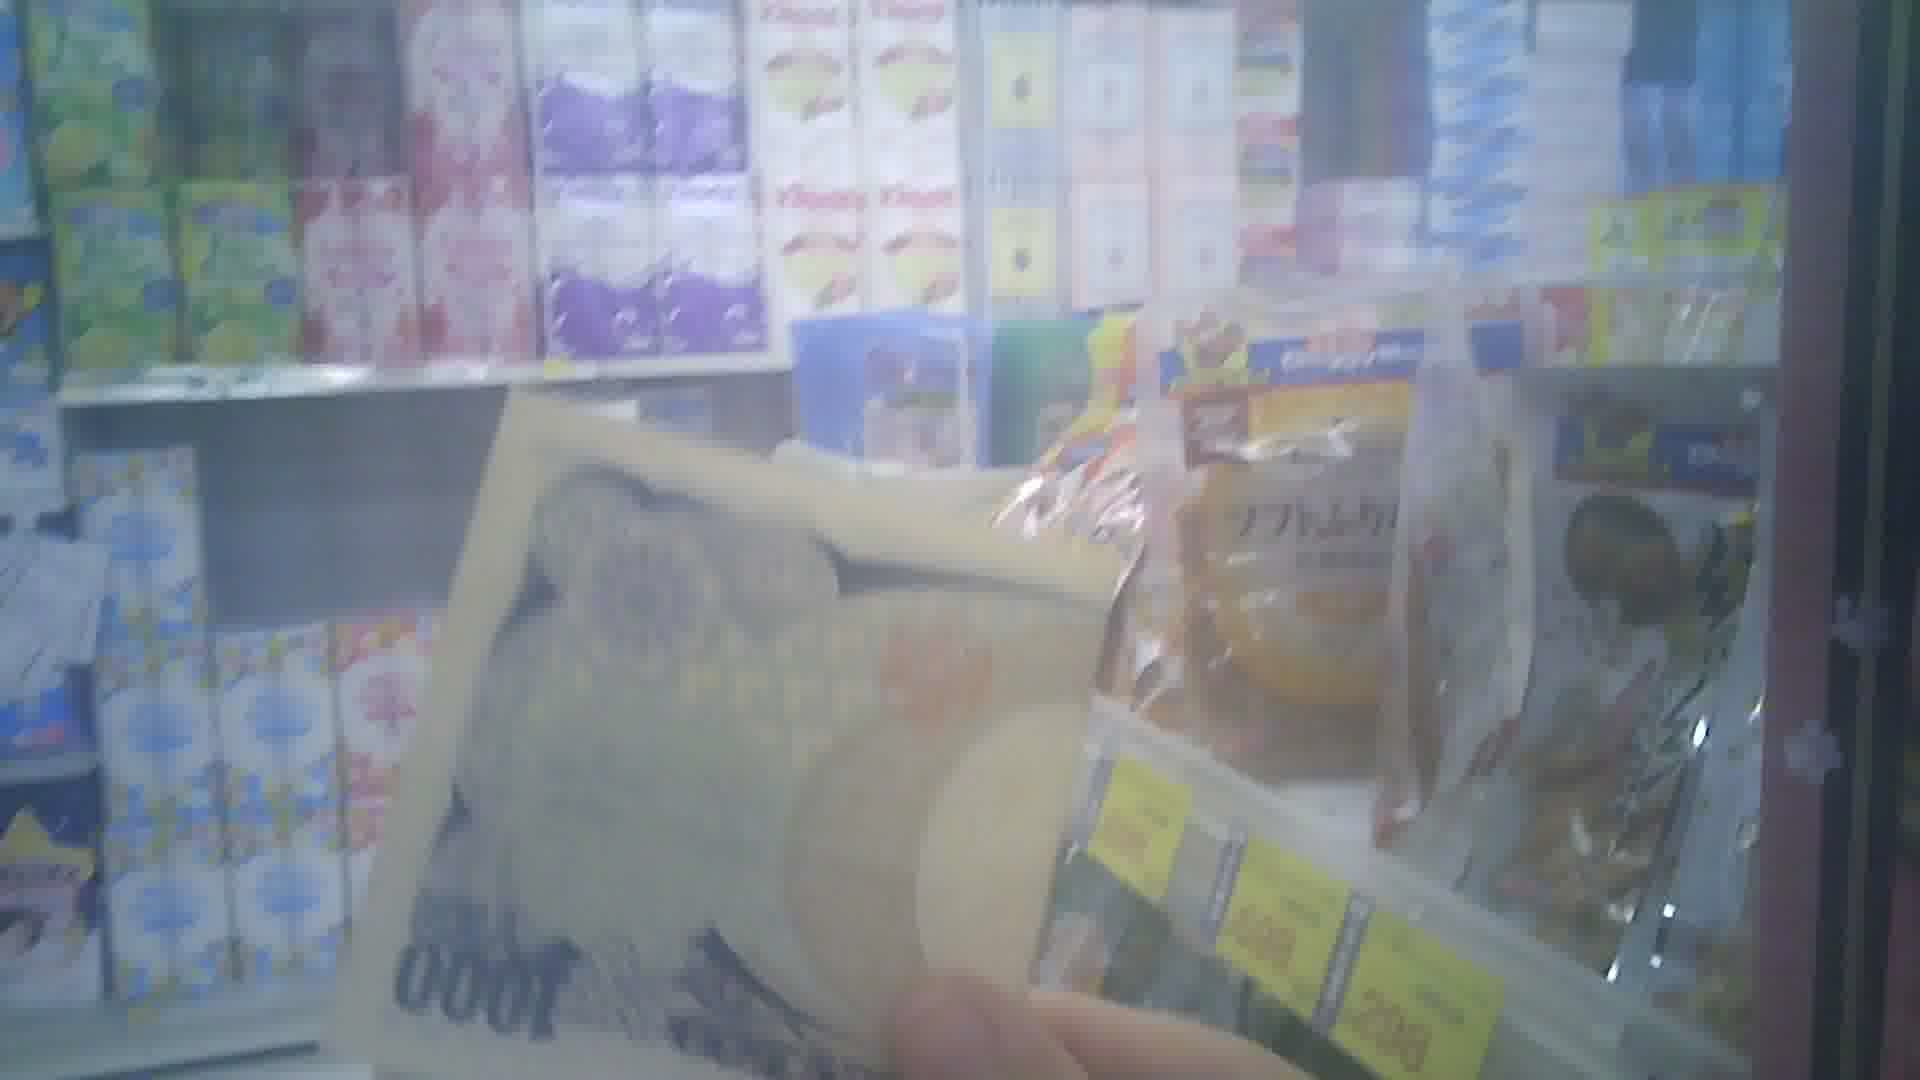1,000 Yen: (336, 389, 1102, 1079)
